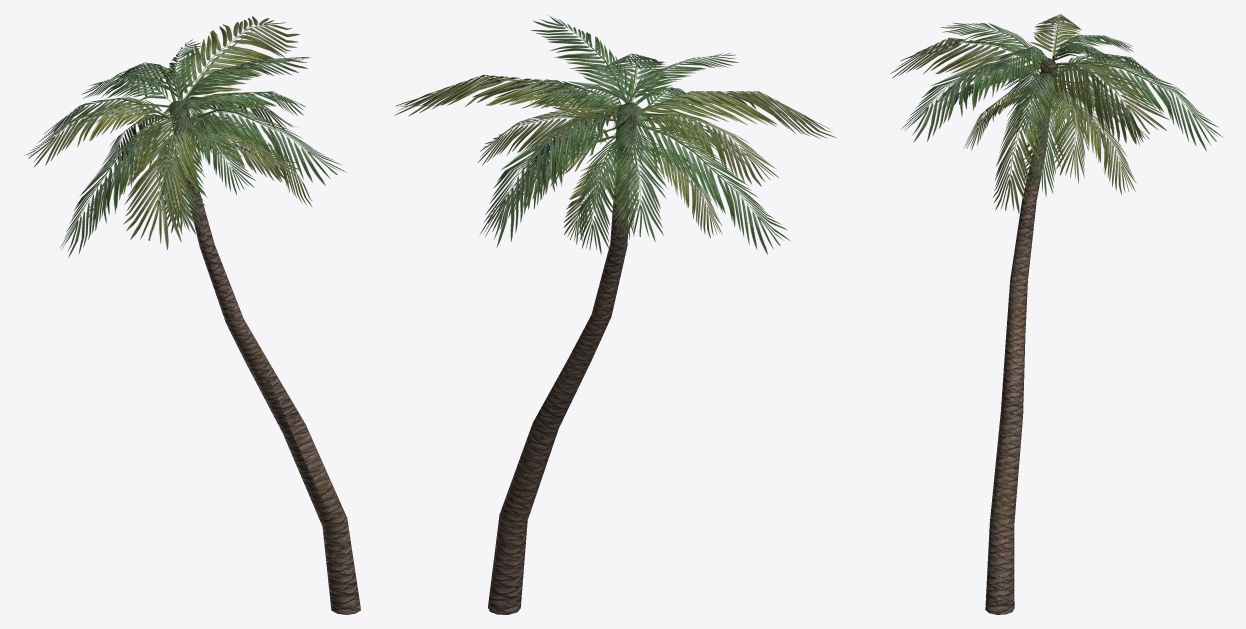
The model's file is bent_d.glb.
3 views of the same model, side by side, from view 1: azimuth 30°, elevation 25°; view 2: azimuth 150°, elevation 25°; view 3: azimuth 270°, elevation 25° (orthographic). The views are drawn at different scales.
Visible parts, largest first — view 1: Palm_005_w; view 2: Palm_005_w; view 3: Palm_005_w.
Boxes of the visible parts, box(x1,y1,x2,y2) form: Palm_005_w: box(24, 16, 360, 614); Palm_005_w: box(394, 14, 836, 614); Palm_005_w: box(890, 14, 1223, 614).
Bounding box in the file's own units: 5 × 8.2 × 5.01.
1 material, 1 textured.
